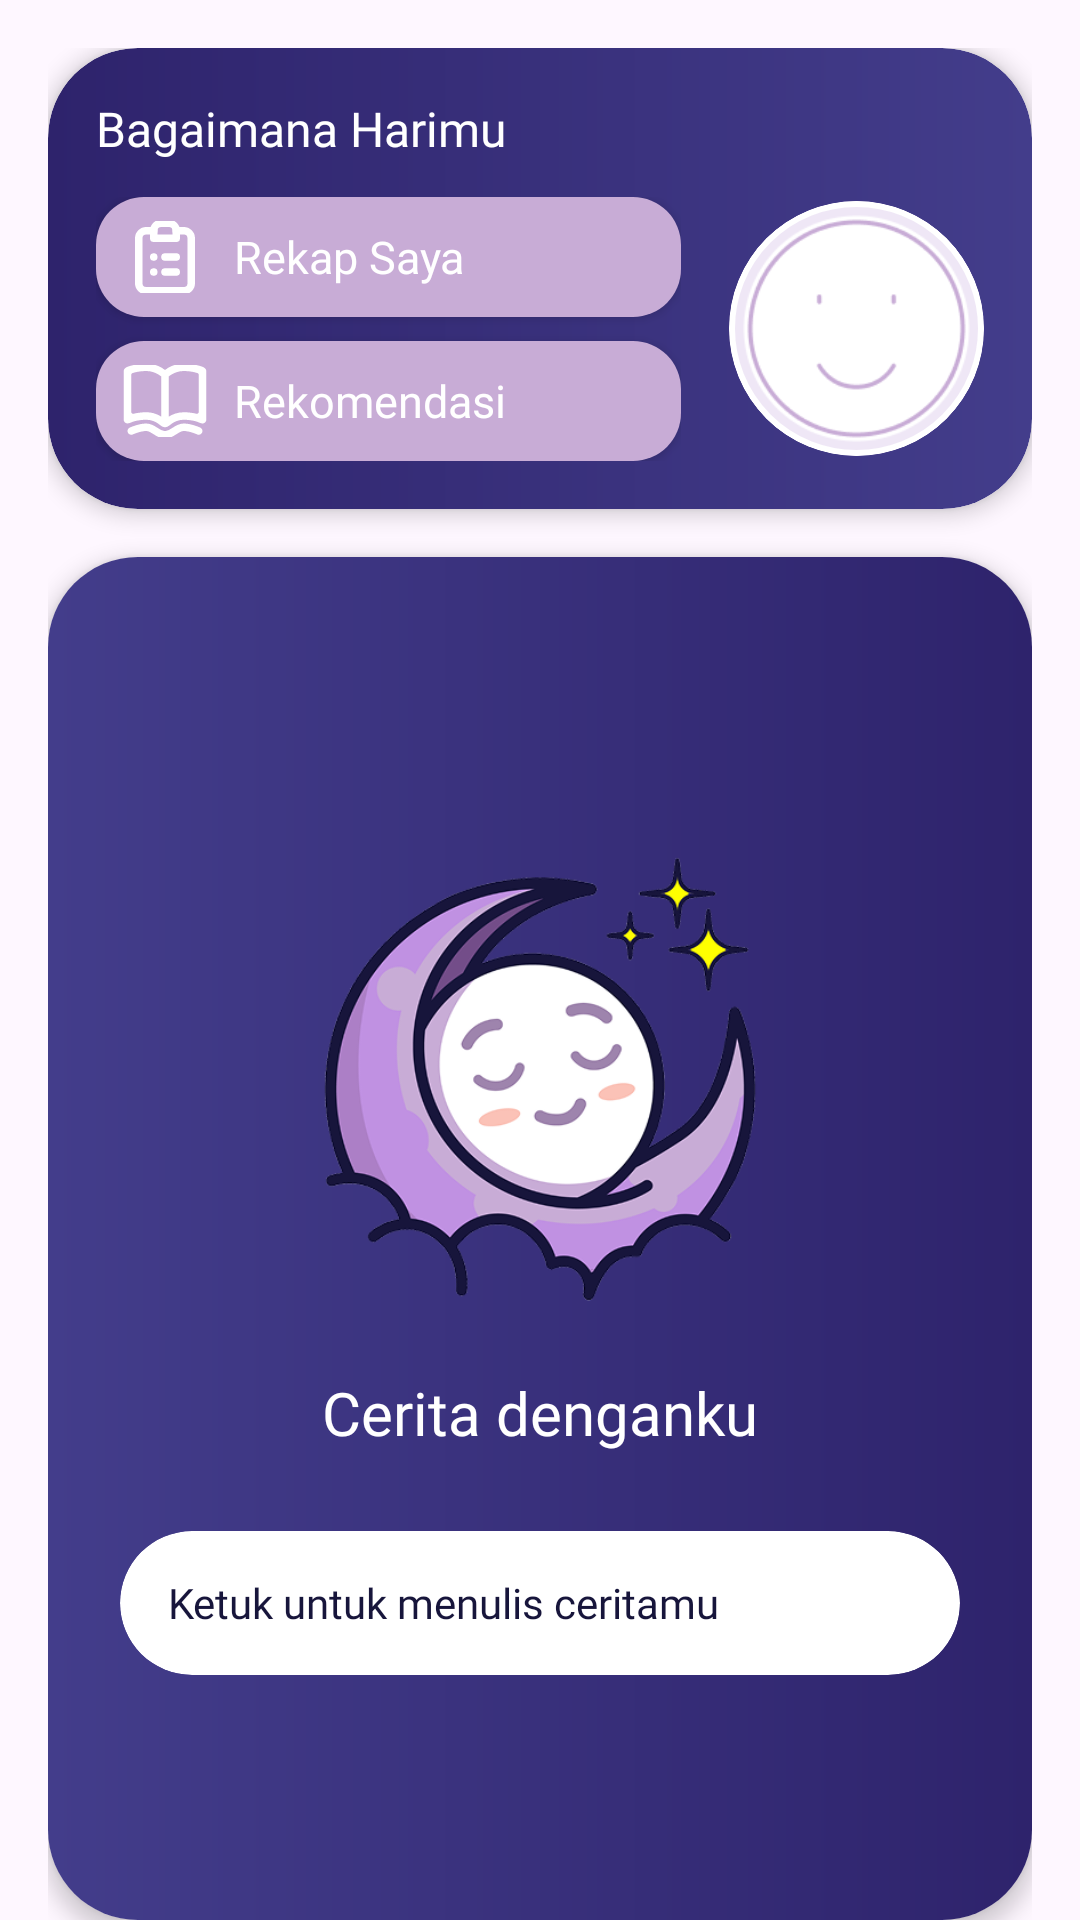

Where icons sit on this 1080px x 1920px app screen, as Rect(x1, y1, x2, y2):
book open: Rect(124, 365, 206, 437)
list clipboard: Rect(135, 221, 195, 293)
